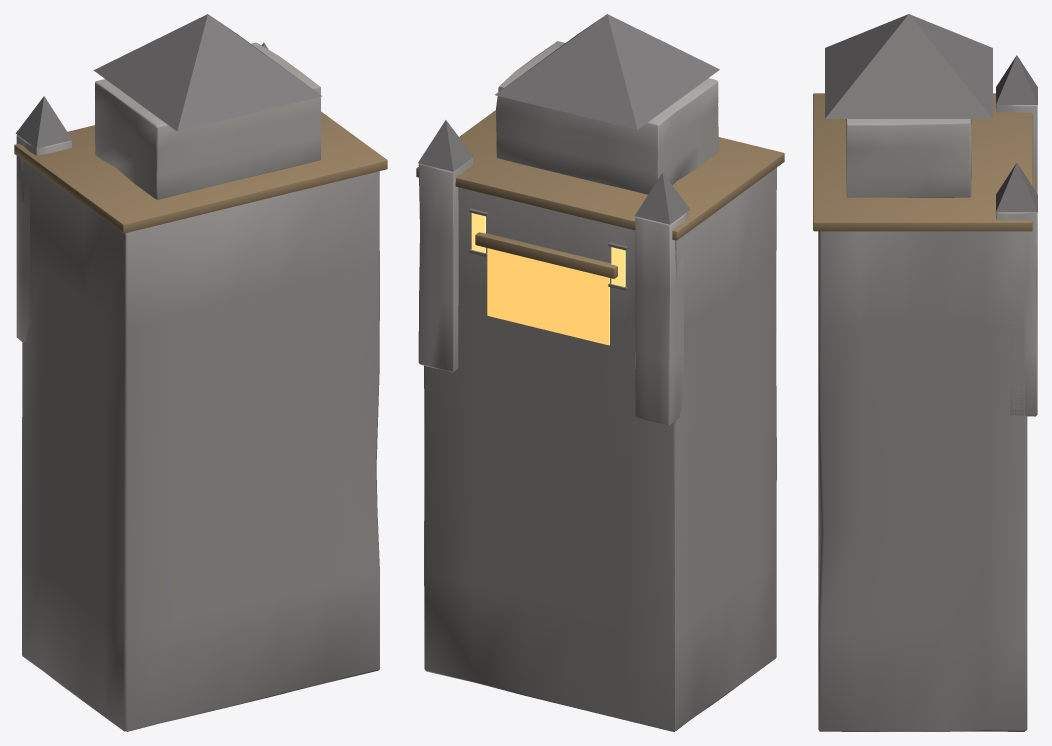
Rendered from SM_Area2_Gatehouse.glb.
3 renders of one model, left to right at view 1: azimuth 30°, elevation 25°; view 2: azimuth 150°, elevation 25°; view 3: azimuth 270°, elevation 25°, orthographic.
Parts seen in each view (by area): view 1: SM_Area2_Gatehouse; view 2: SM_Area2_Gatehouse; view 3: SM_Area2_Gatehouse.
Boxes of the visible parts, <box> form: SM_Area2_Gatehouse: <box>14,14,387,731</box>; SM_Area2_Gatehouse: <box>416,14,784,731</box>; SM_Area2_Gatehouse: <box>813,14,1037,731</box>.
Bounding box in the file's own units: 8.8 × 20.8 × 6.45.
